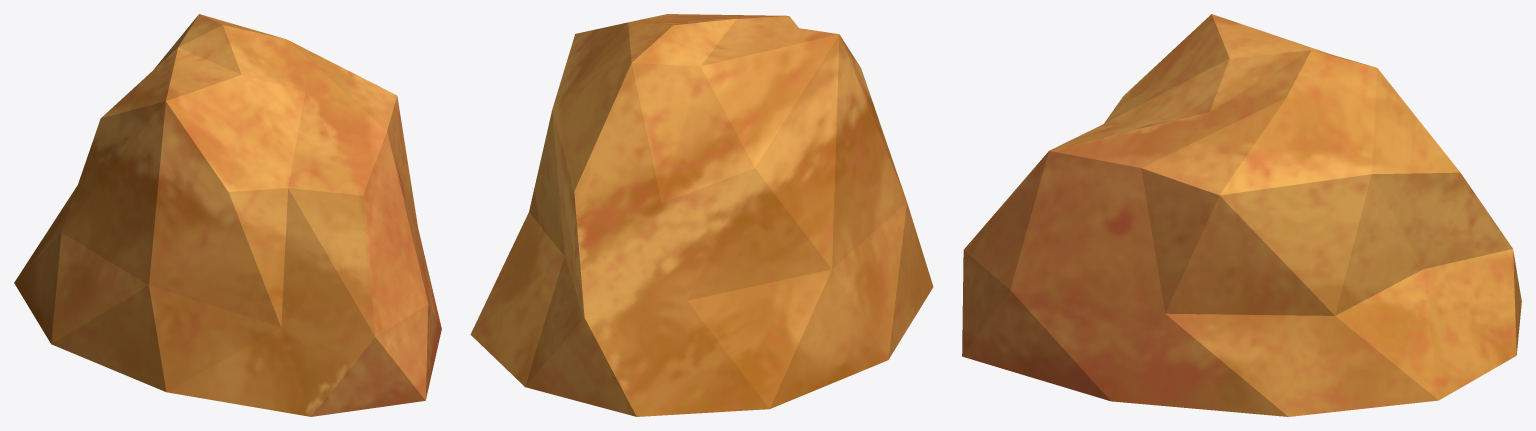
The model's file is Stone3.fbx.
3 views of the same model, side by side, from view 1: azimuth 30°, elevation 25°; view 2: azimuth 150°, elevation 25°; view 3: azimuth 270°, elevation 25° (orthographic). The views are drawn at different scales.
Visible parts, largest first — view 1: Stone3; view 2: Stone3; view 3: Stone3.
Boxes of the visible parts, x1,y1,x2,y2 form: Stone3: (14,14,441,416); Stone3: (470,14,933,416); Stone3: (962,14,1521,416).
Size of the model in its own units: 0.75 by 0.5641 by 1.
